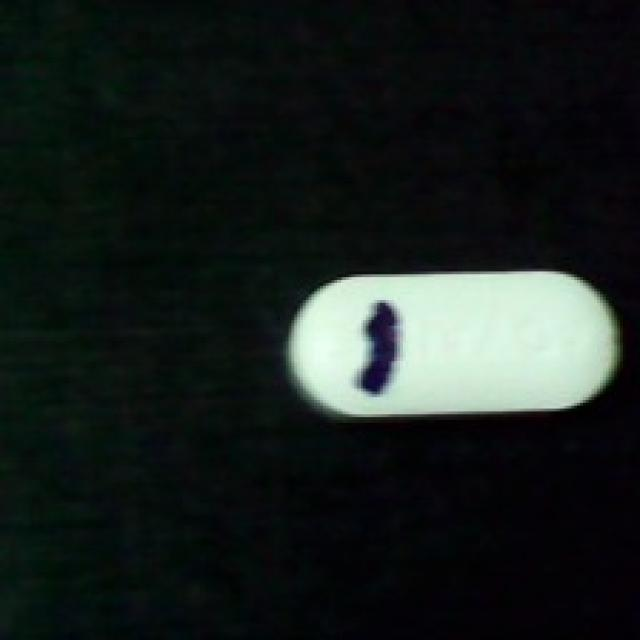defected: (283, 266, 626, 426)
